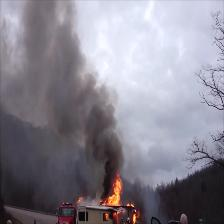fire: (106, 175, 125, 206)
smoke: (19, 1, 84, 119), (87, 77, 120, 172)
